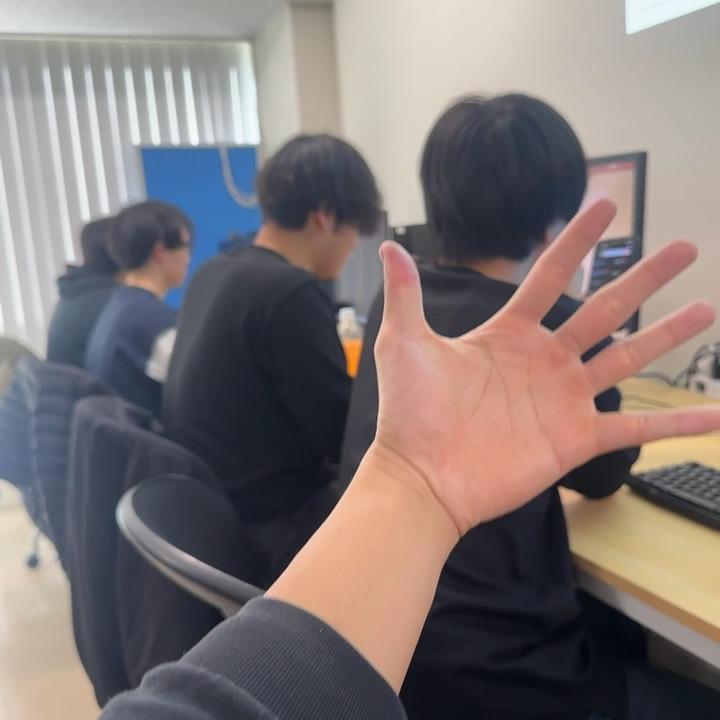without_gloves: (271, 89, 720, 549)
